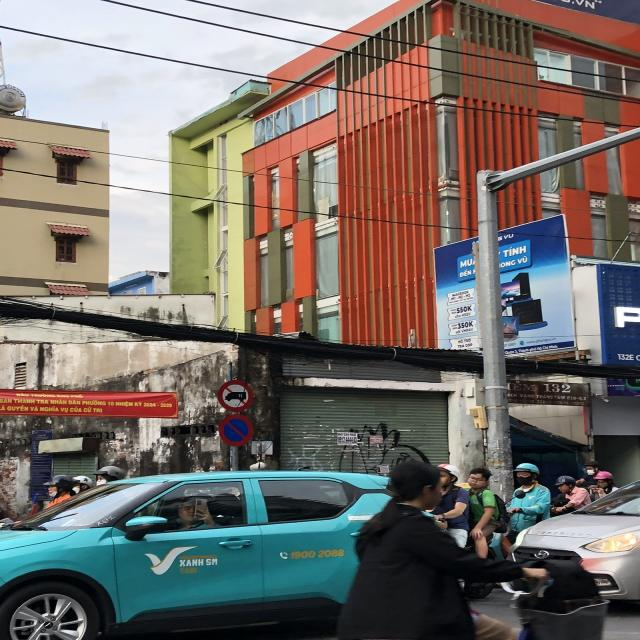Bien bao cam do xe: (216, 413, 256, 447)
Bien bao cam xe oto tai: (216, 375, 257, 413)
